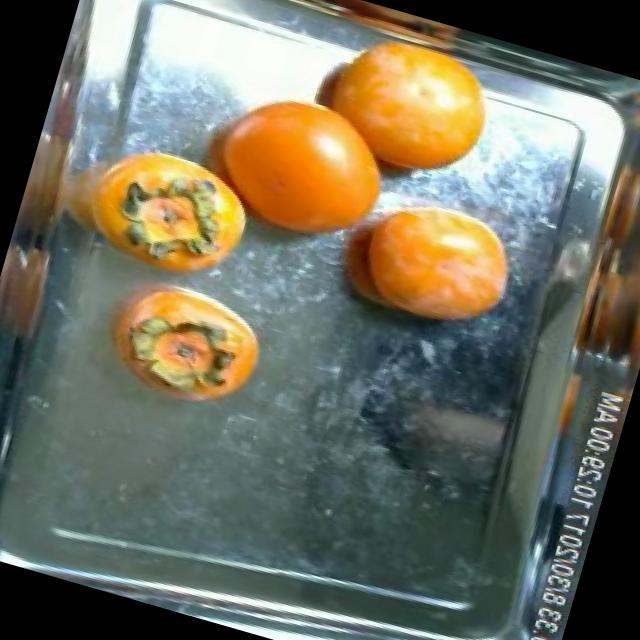Fruit: (301, 164, 544, 362), (276, 12, 518, 208), (112, 272, 284, 427), (543, 359, 588, 448)
